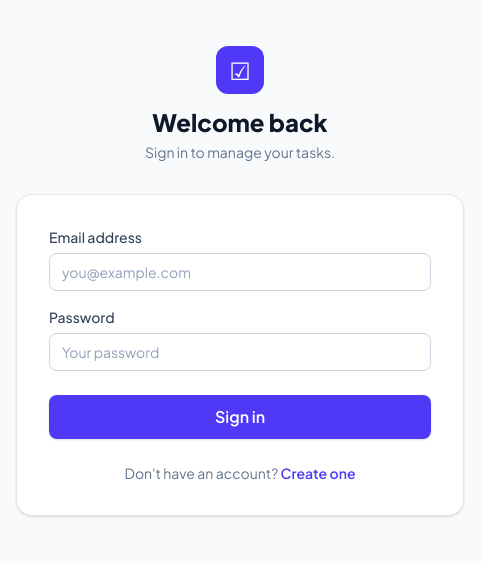
Scenario: LoginPage › surface API errors in an alert banner
Type "nilay@example.com" into the field labelled "Email address" at (240, 272), box [49, 253, 431, 291]
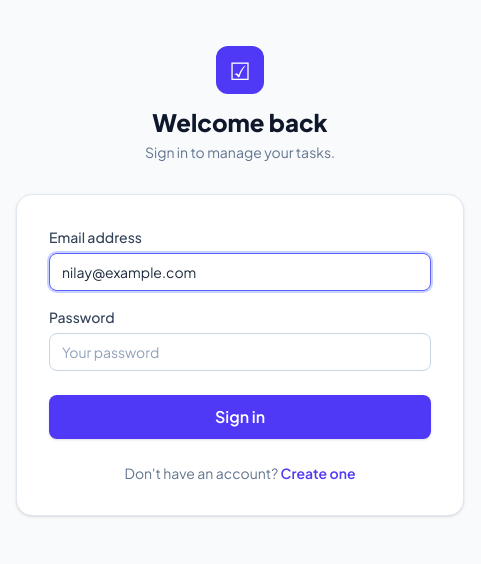
Type "wrongpass" into the password field labelled "Password" at (240, 352), box [49, 333, 431, 371]
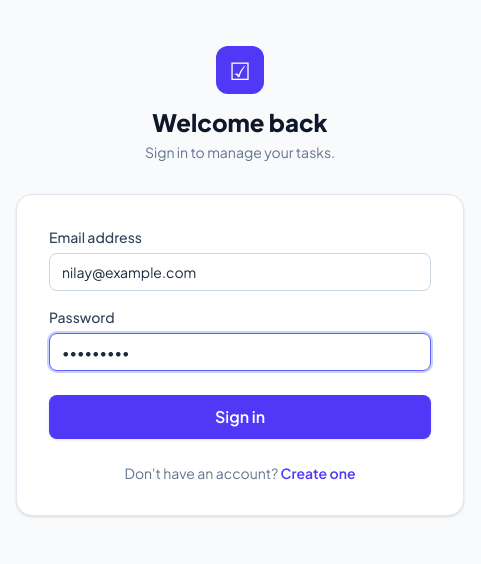
Click the button "Sign in" at (240, 417), box [49, 395, 431, 439]
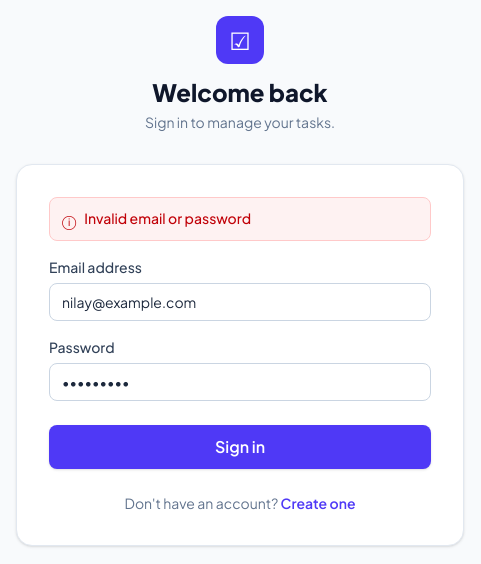
Now the message shows "Invalid email or password", box [84, 209, 251, 227]
